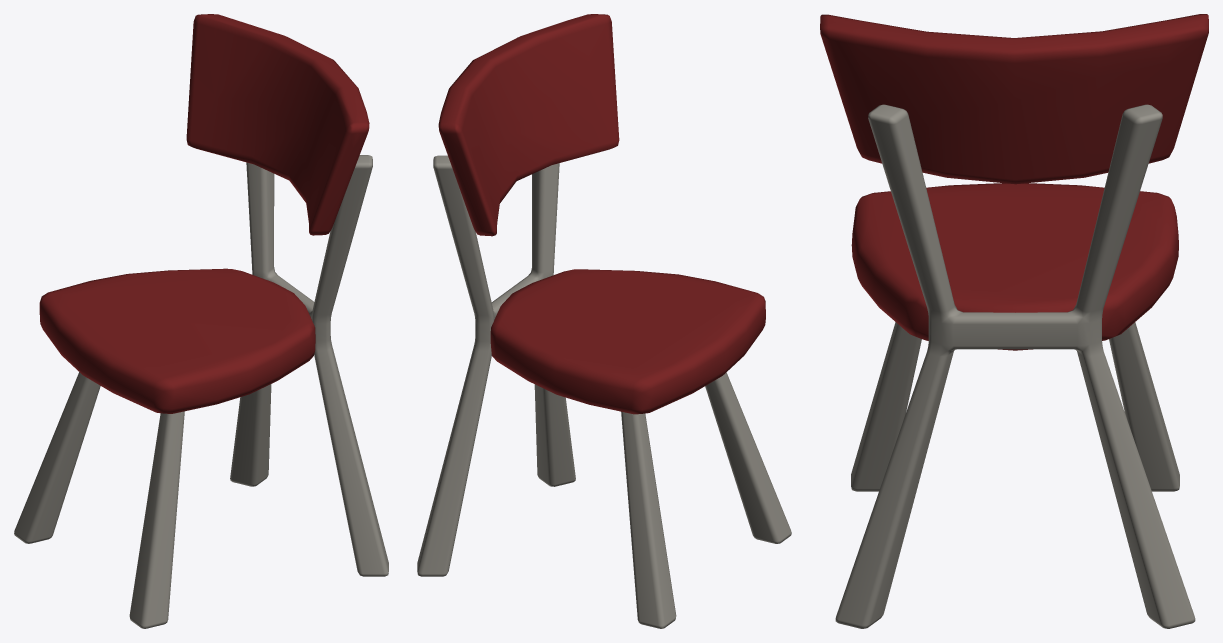
File: chair_03_metal_red.fbx
3 renders of one model, left to right at view 1: azimuth 30°, elevation 25°; view 2: azimuth 150°, elevation 25°; view 3: azimuth 270°, elevation 25°, orthographic. The views are drawn at different scales.
Parts seen in each view (by area): view 1: chair_03_metal_red; view 2: chair_03_metal_red; view 3: chair_03_metal_red.
Part boxes in pixels (<box>): chair_03_metal_red: <box>14,14,388,628</box>; chair_03_metal_red: <box>417,14,791,628</box>; chair_03_metal_red: <box>820,14,1208,628</box>.
Bounding box in the file's own units: 58.11 × 101 × 60.73.
2 materials, 2 textured.
